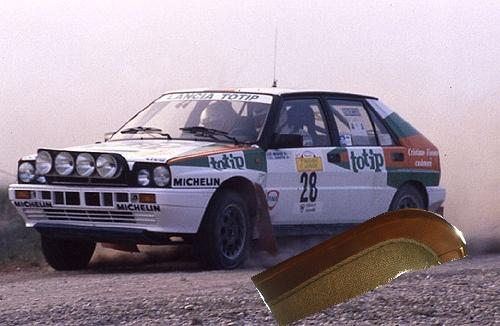tampered: (252, 208, 468, 326)
